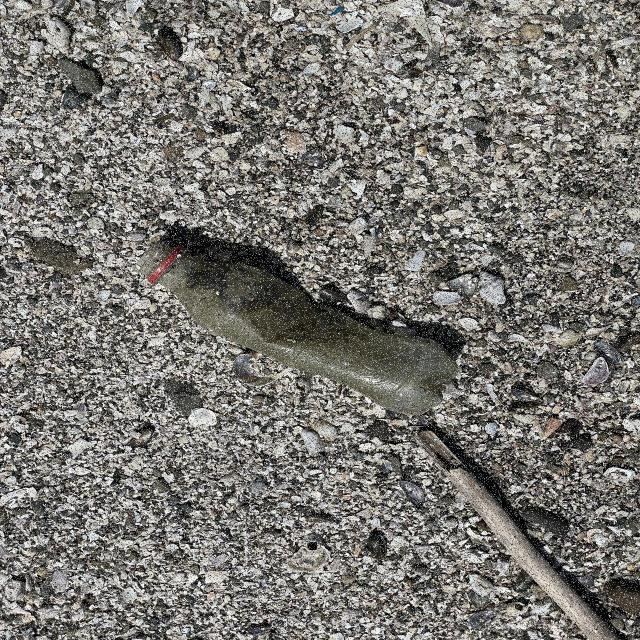plastic_waste: (135, 239, 461, 417)
